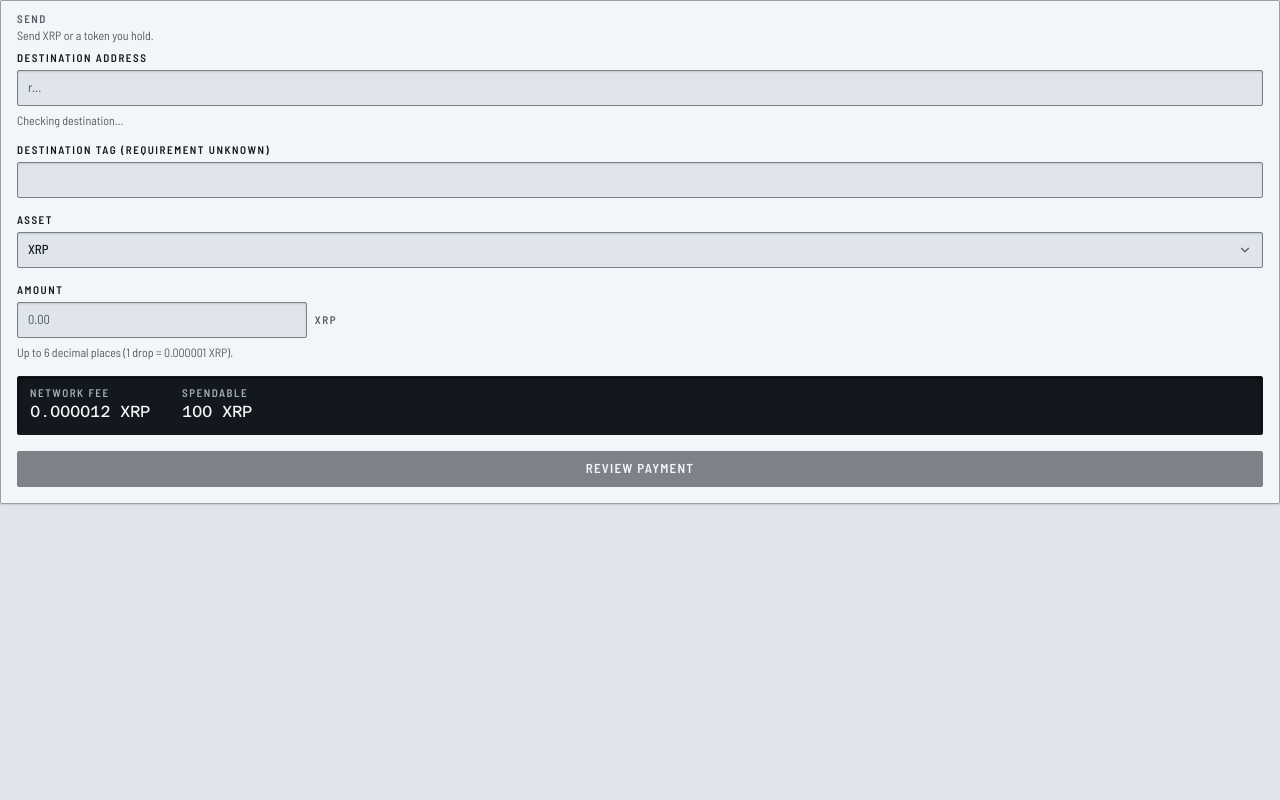
Test case: SendTab — only a fresh successful check for this input permits a send › warns that the destination is not activated, on a check that permits the send
The width and height of the screenshot is (1280, 800).
In the field labelled "Destination address": [640, 88] box [17,70,1263,106], type "rHb9CJAWyB4rj91VRWn96DkukG4bwdtyTh"
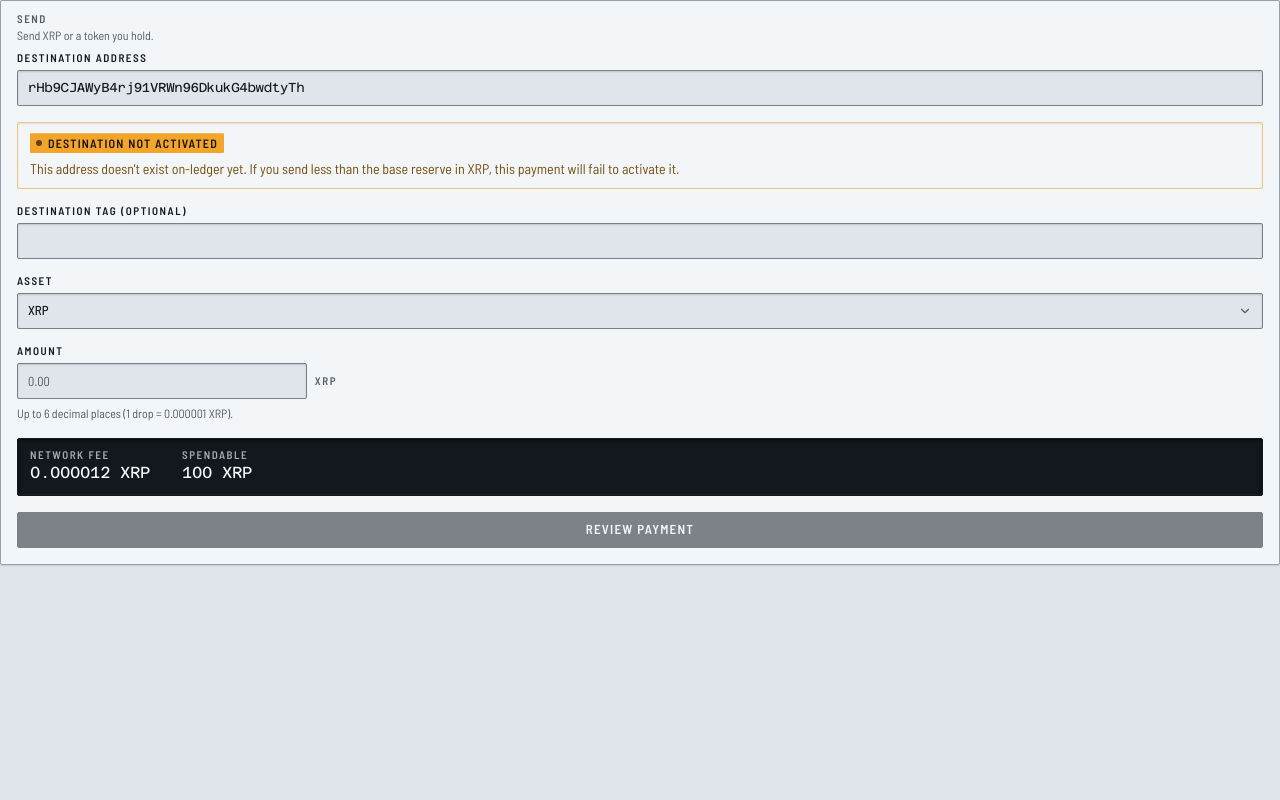
In the field labelled "Amount": [162, 381] box [17,363,307,399], type "1"
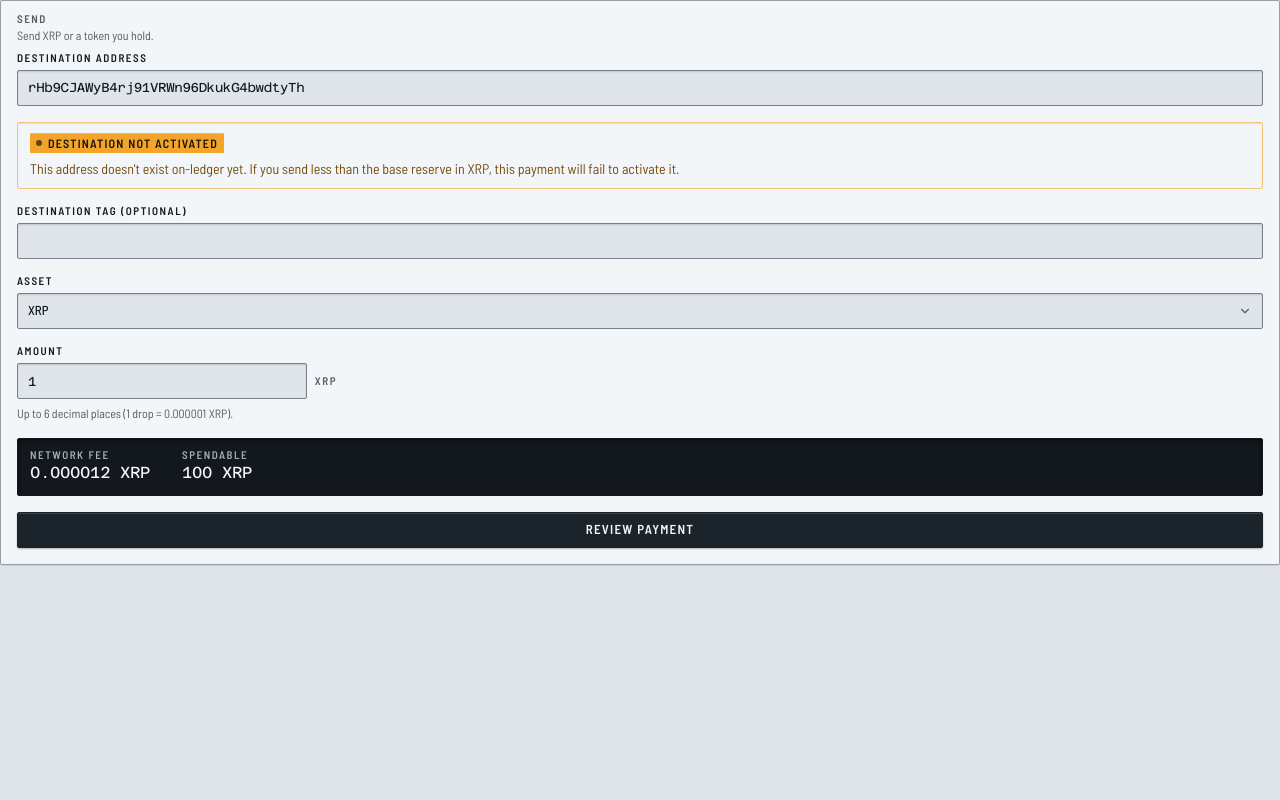
Now the text "Destination not activated" is shown, box [30,133,224,153]
Now the button "Review payment" is enabled, box [17,512,1263,548]
